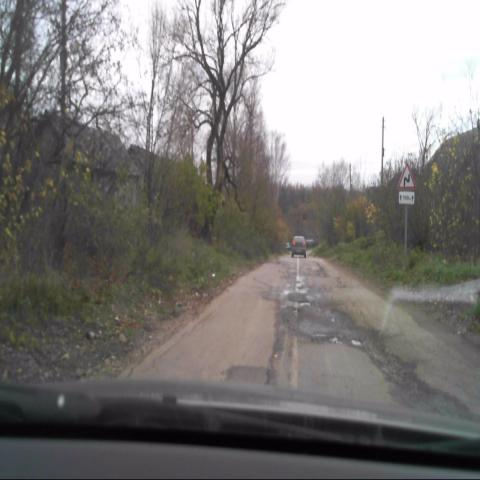1_12: (398, 161, 414, 188)
